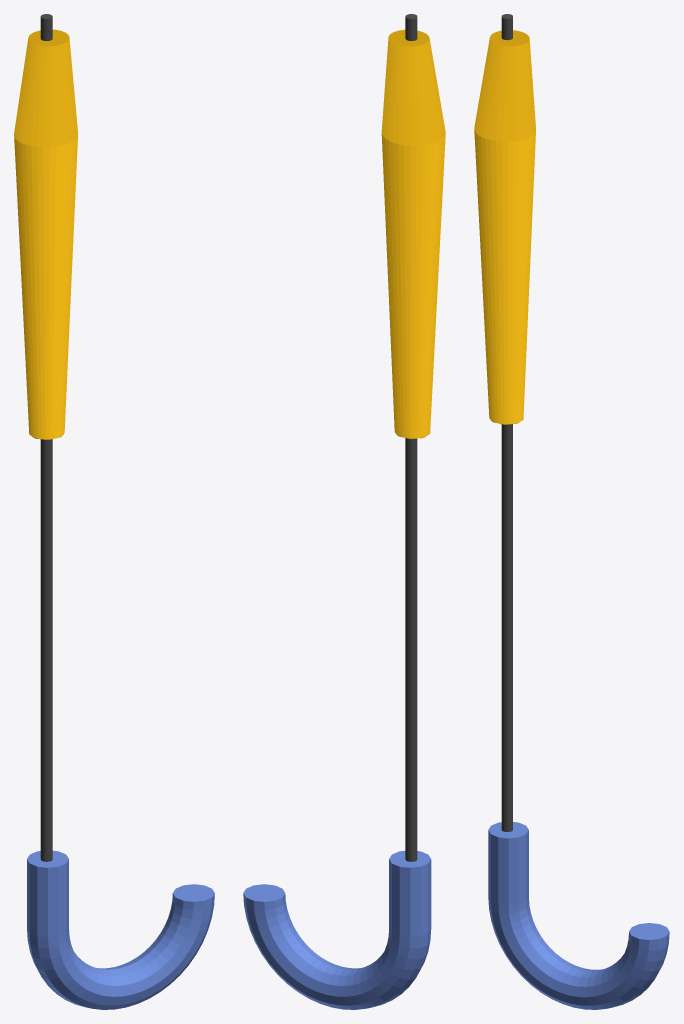
The model's file is umbrellawanim.glb.
3 renders of one model, left to right at view 1: azimuth 30°, elevation 25°; view 2: azimuth 150°, elevation 25°; view 3: azimuth 330°, elevation 25°, orthographic. The views are drawn at different scales.
Parts seen in each view (by area): view 1: canopy, handle, shaft; view 2: canopy, handle, shaft; view 3: canopy, handle, shaft.
Boxes of the visible parts, box(x1,y1,x2,y2) form: canopy: box(14, 29, 77, 439); handle: box(27, 850, 214, 1009); shaft: box(40, 14, 52, 861); canopy: box(381, 29, 445, 439); handle: box(243, 850, 431, 1009); shaft: box(405, 14, 417, 861); canopy: box(474, 30, 535, 424); handle: box(488, 822, 669, 1009); shaft: box(501, 14, 512, 831).
Bounding box in the file's own units: 1.87 × 9.24 × 0.5143.
